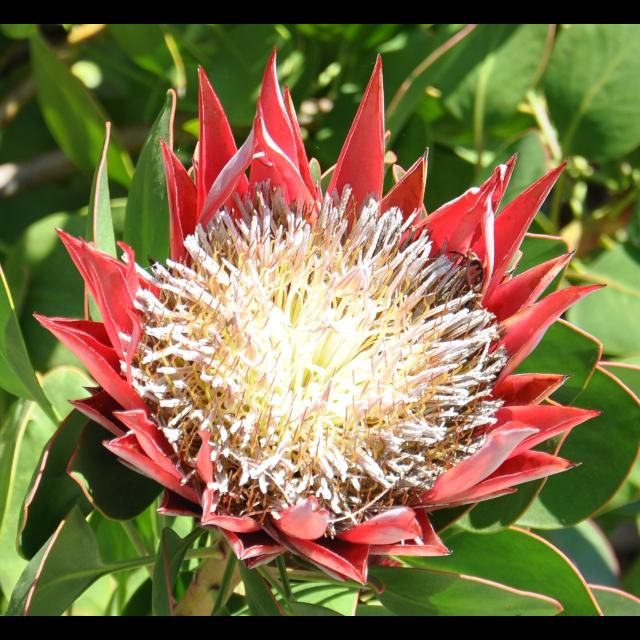Flower: (41, 90, 601, 588)
